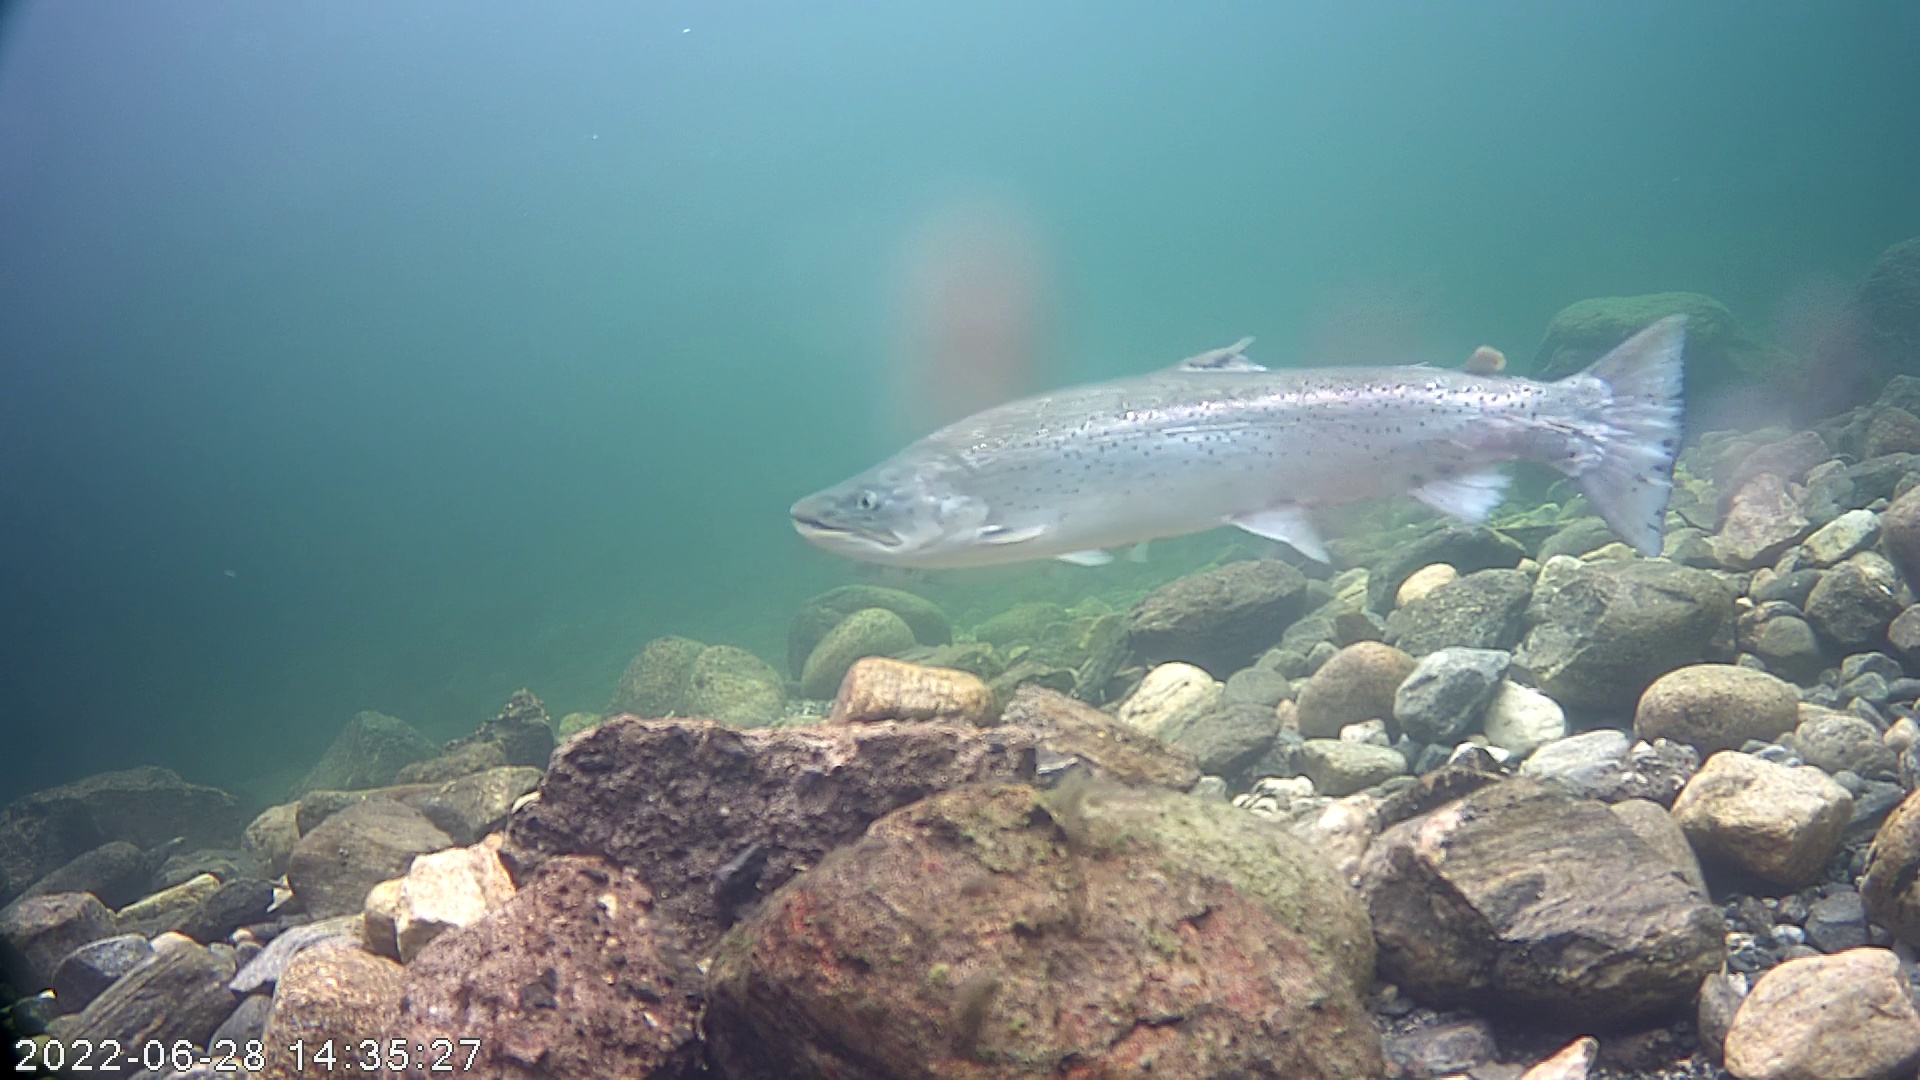salmon: (775, 225, 1726, 636)
